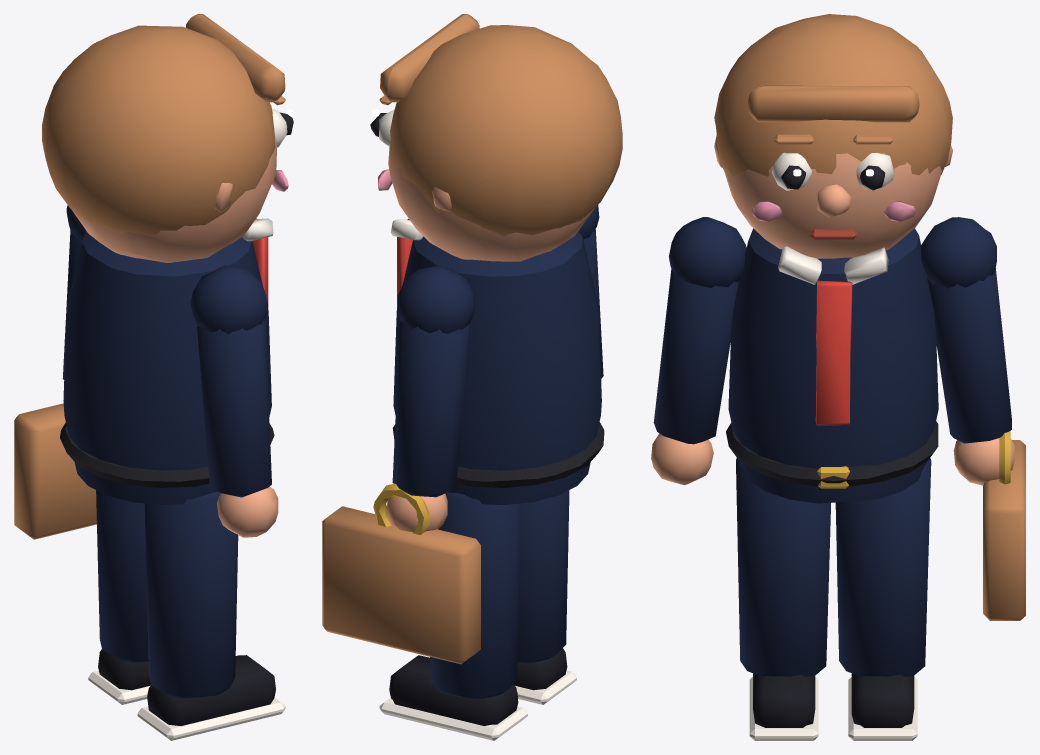
The model's file is ped_business.glb.
3 views of the same model, side by side, from view 1: azimuth 30°, elevation 25°; view 2: azimuth 150°, elevation 25°; view 3: azimuth 270°, elevation 25° (orthographic).
Visible parts, largest first — view 1: ped_business; view 2: ped_business; view 3: ped_business.
Boxes of the visible parts, x1,y1,x2,y2 form: ped_business: (14, 14, 293, 740); ped_business: (322, 14, 622, 740); ped_business: (651, 14, 1025, 740).
Bounding box in the file's own units: 0.4649 × 1.37 × 0.6935.
Materials: 1 (1 with a texture image).
